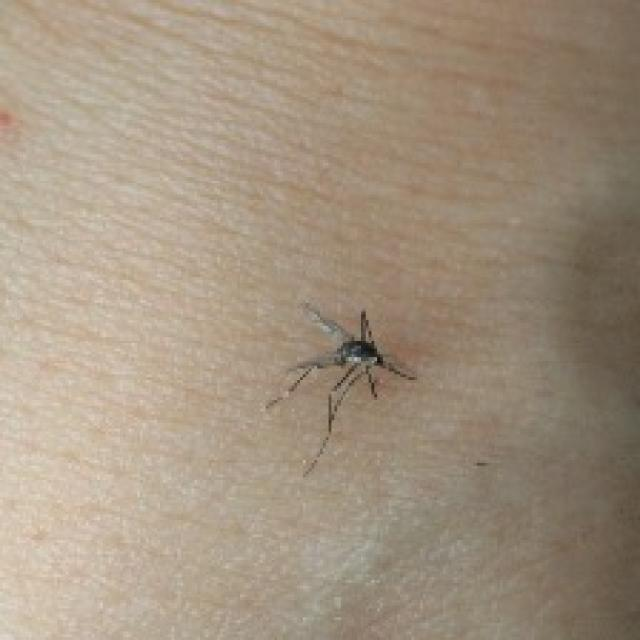aedes: (263, 297, 417, 477)
